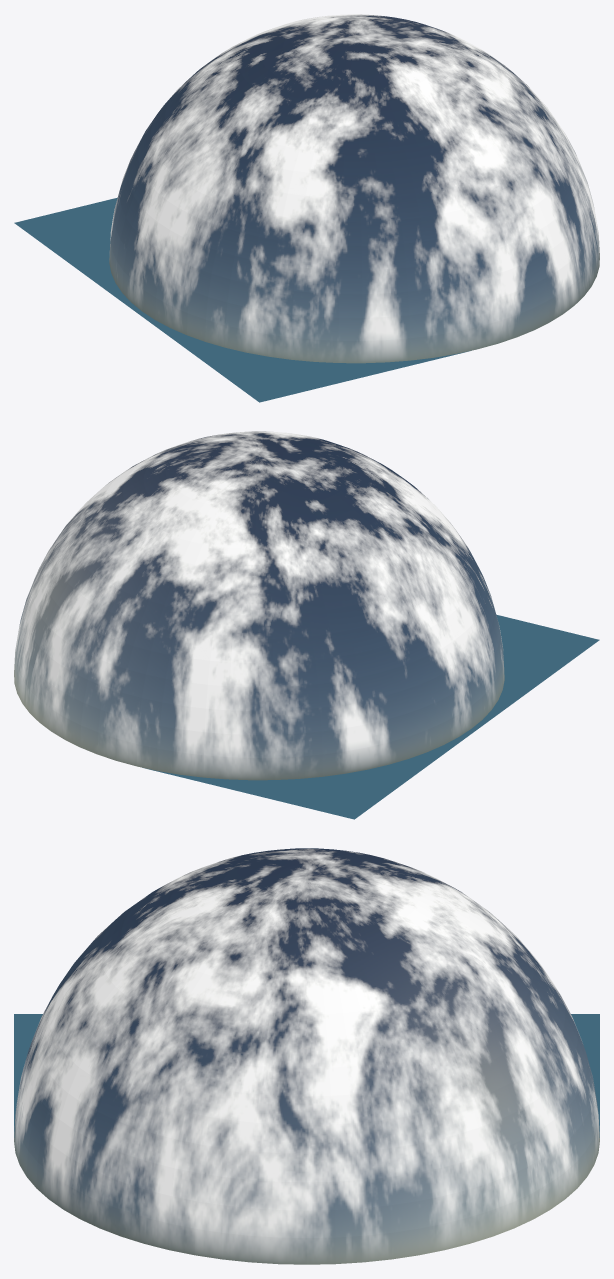
The model's file is terrain-port.glb.
3 views of the same model, one above another, from view 1: azimuth 30°, elevation 25°; view 2: azimuth 150°, elevation 25°; view 3: azimuth 270°, elevation 25° (orthographic). The views are drawn at different scales.
Parts seen in each view (by area): view 1: SkyDome, Sea; view 2: SkyDome, Sea; view 3: SkyDome, Sea.
Part boxes in pixels (box(x1,y1,x2,y2)): SkyDome: box(109, 14, 599, 363); Sea: box(14, 197, 471, 402); SkyDome: box(14, 431, 504, 780); Sea: box(142, 614, 599, 819); SkyDome: box(14, 848, 599, 1264); Sea: box(14, 1014, 599, 1137).
Bounding box in the file's own units: 4050 × 2000 × 4000.
Materials: 333 (4 with a texture image).
